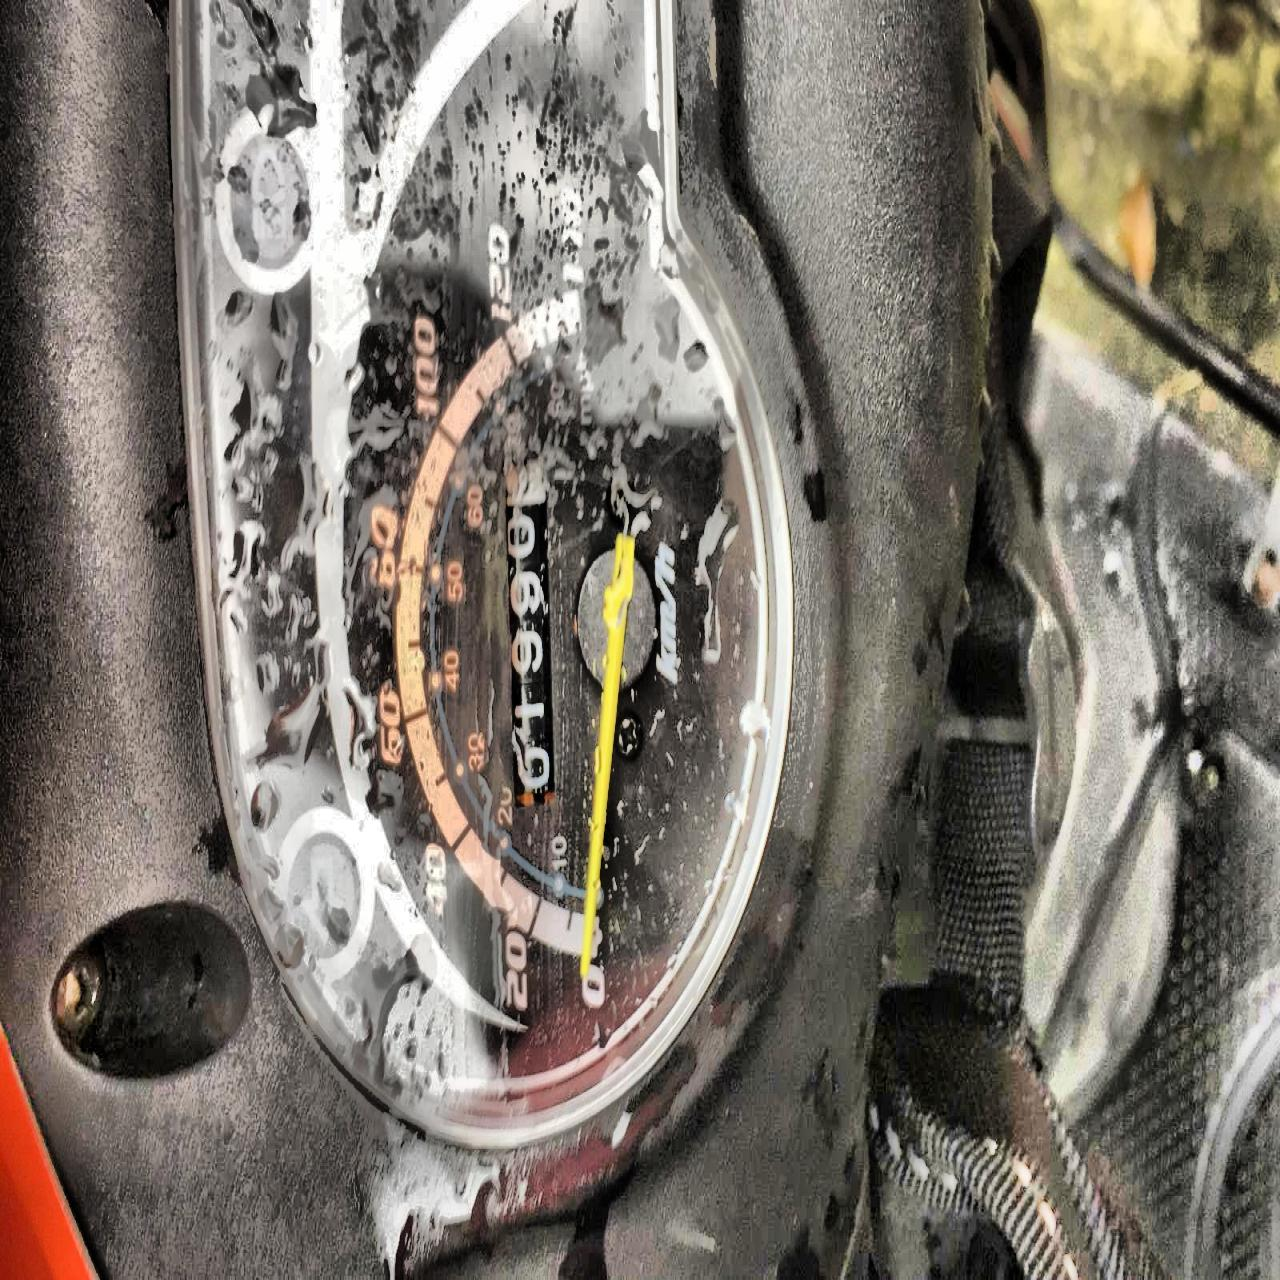0: (515, 741, 552, 788), (504, 511, 538, 560), (496, 783, 510, 803)
8: (506, 690, 551, 727)
9: (506, 627, 545, 679), (506, 568, 545, 615), (501, 459, 537, 496)
odometer: (499, 458, 560, 811)
